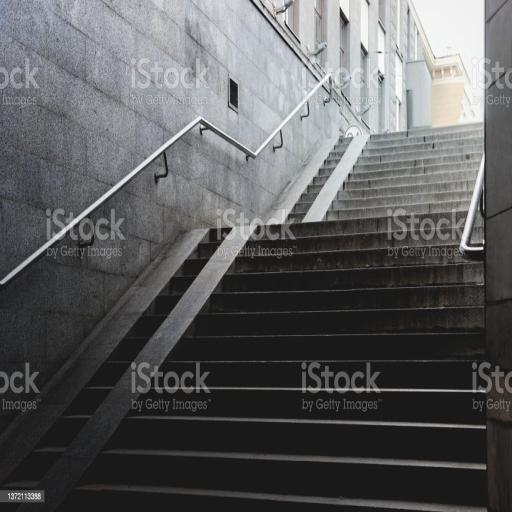ramp: (2, 228, 256, 512), (207, 135, 371, 223)
stairs: (77, 214, 491, 508), (321, 121, 483, 214)
